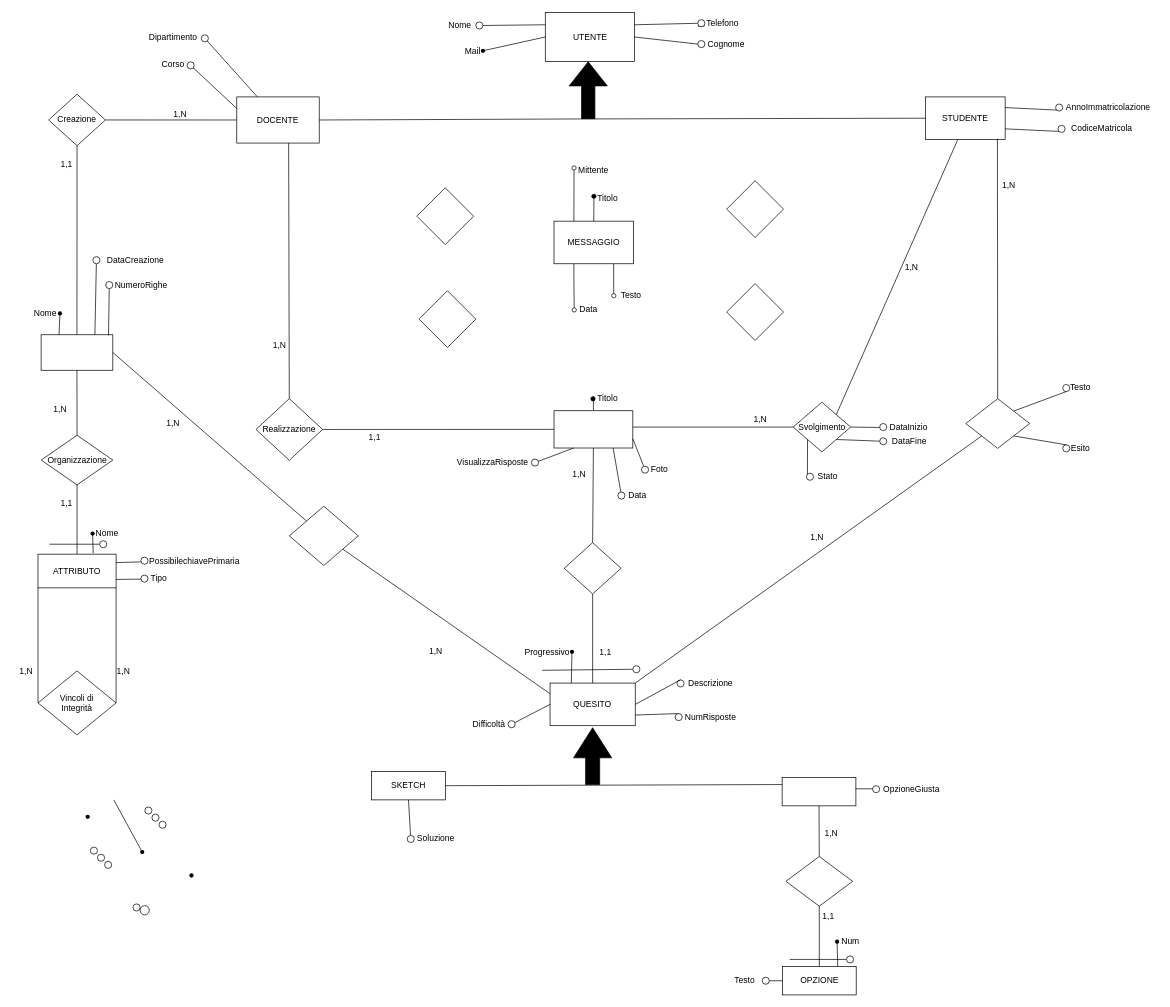
The diagram is 1170 pixels wide and 1007 high, and some of its shapes have lost their labels. The shapes that lost their labels are listed below. From the top down, each one's box as (x1, y1, x2, y2) in pixels, then its label:
(40, 334, 113, 370): TABELLA ESERCIZIO
(553, 410, 633, 448): TEST
(965, 398, 1030, 448): RISPOSTA
(289, 506, 358, 566): Formazione
(564, 542, 621, 594): Include
(781, 777, 856, 806): CHIUSO
(785, 856, 853, 906): Composizione
